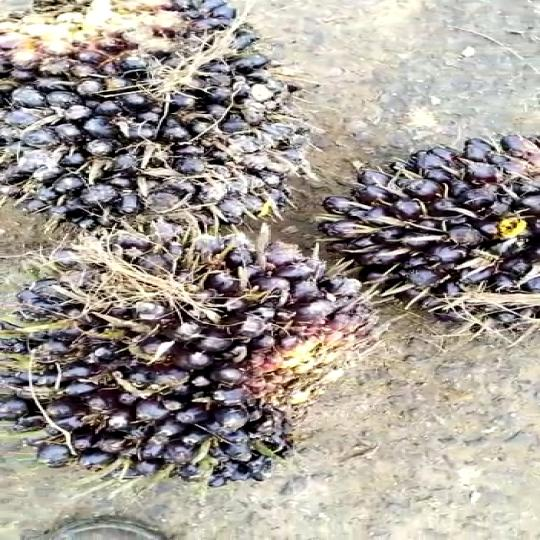mentah: (0, 233, 356, 498), (0, 0, 301, 231), (327, 108, 540, 345)
